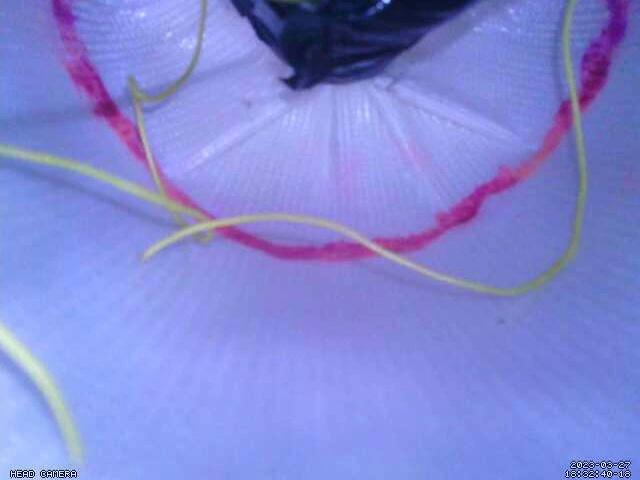head: (48, 0, 631, 263)
